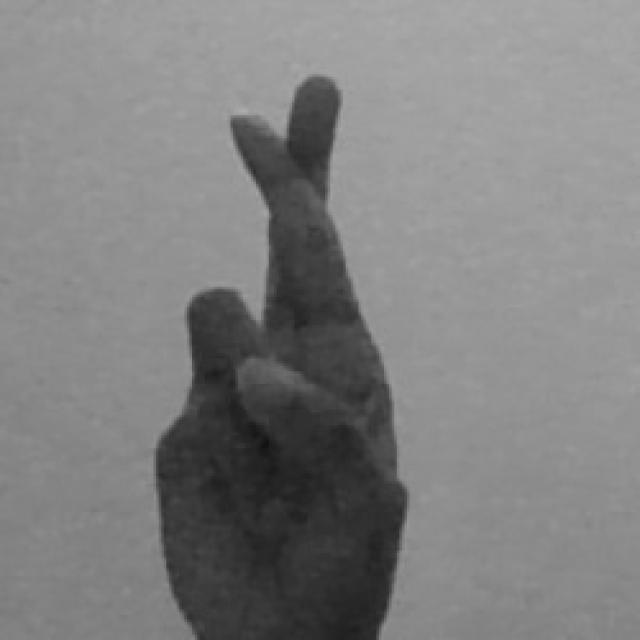R: (149, 69, 412, 640)
